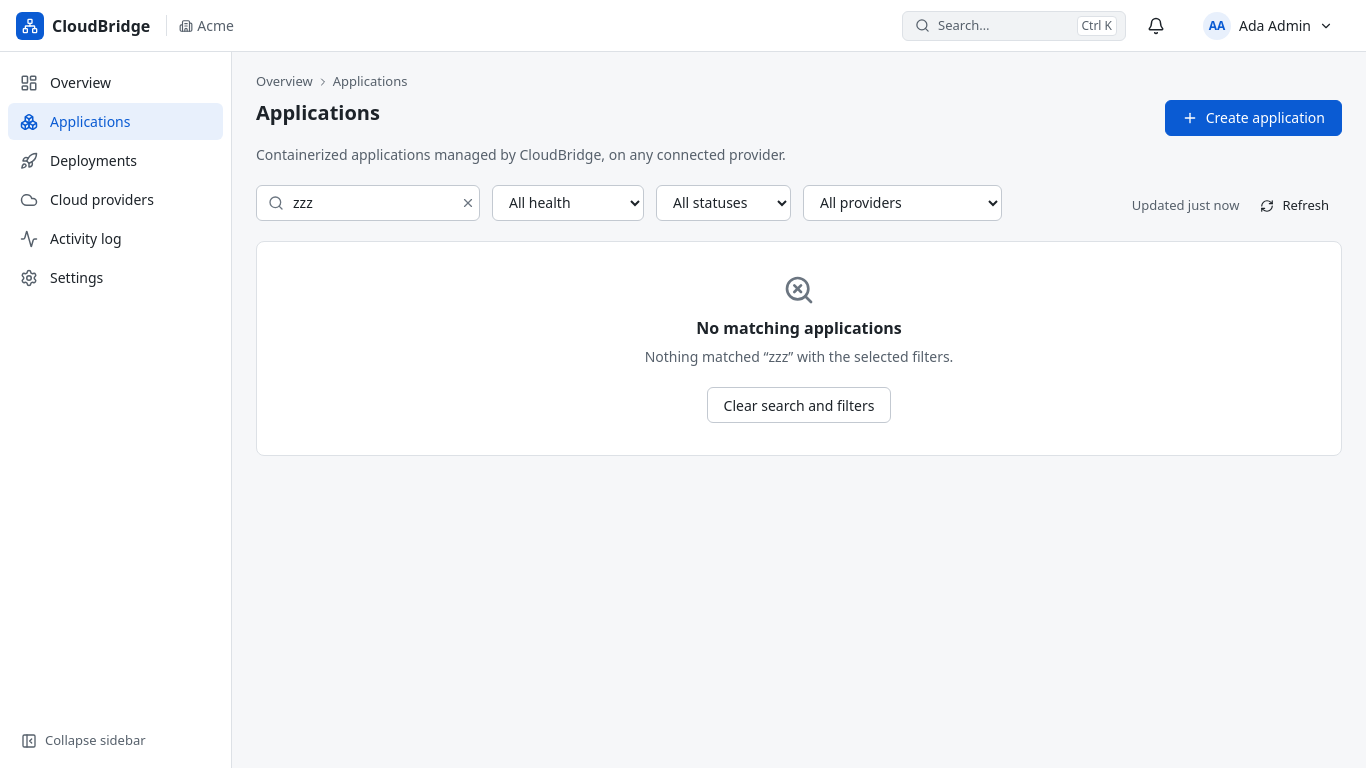
Test: applications list › distinguishes "no search results" and lets the user clear the search
This screenshot has width=1366, height=768.
Expected: the heading "No matching applications" is shown, [696, 318, 902, 338]
Expected: the text "Nothing matched “zzz” with the selected filters." is shown, [645, 346, 953, 367]
Click the button "Clear search and filters" at (799,405), box [707, 387, 891, 423]
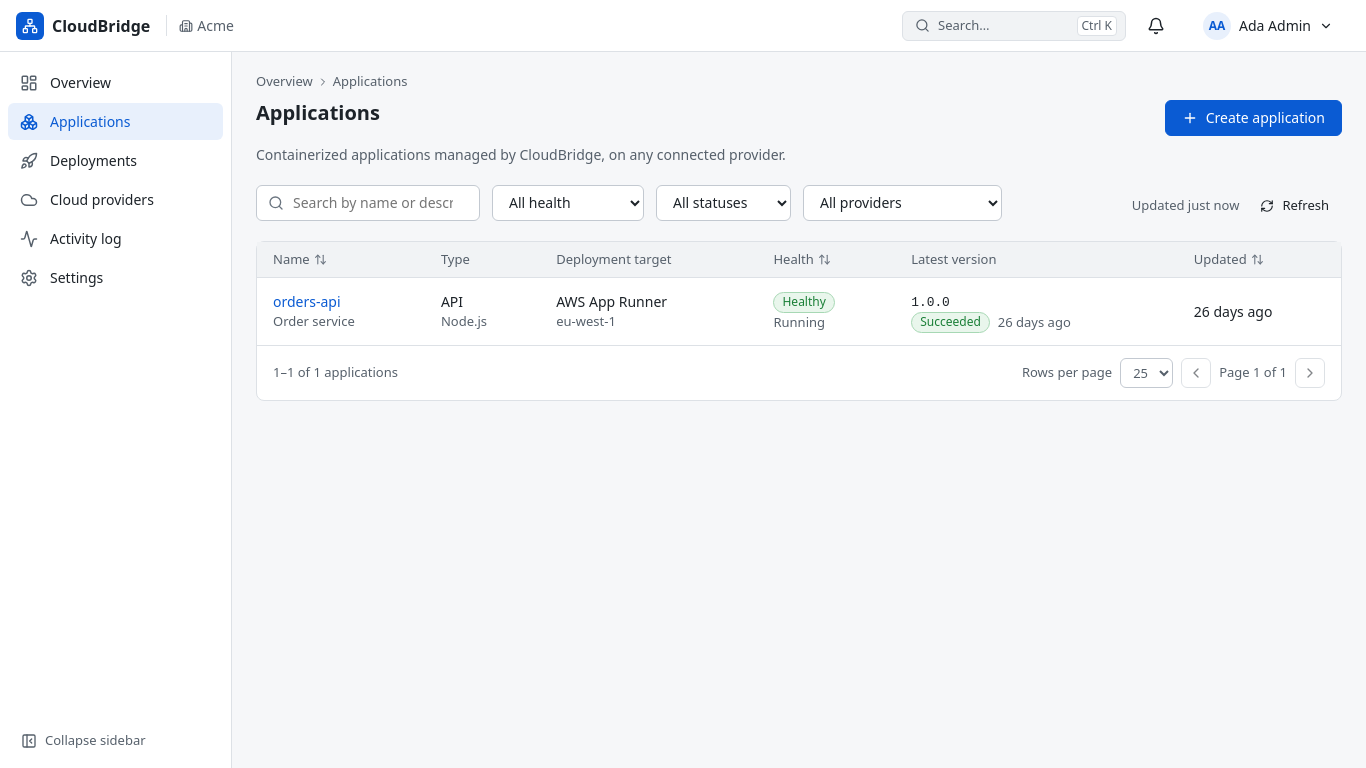
Expected: the link "orders-api" is shown, [273, 292, 341, 311]
